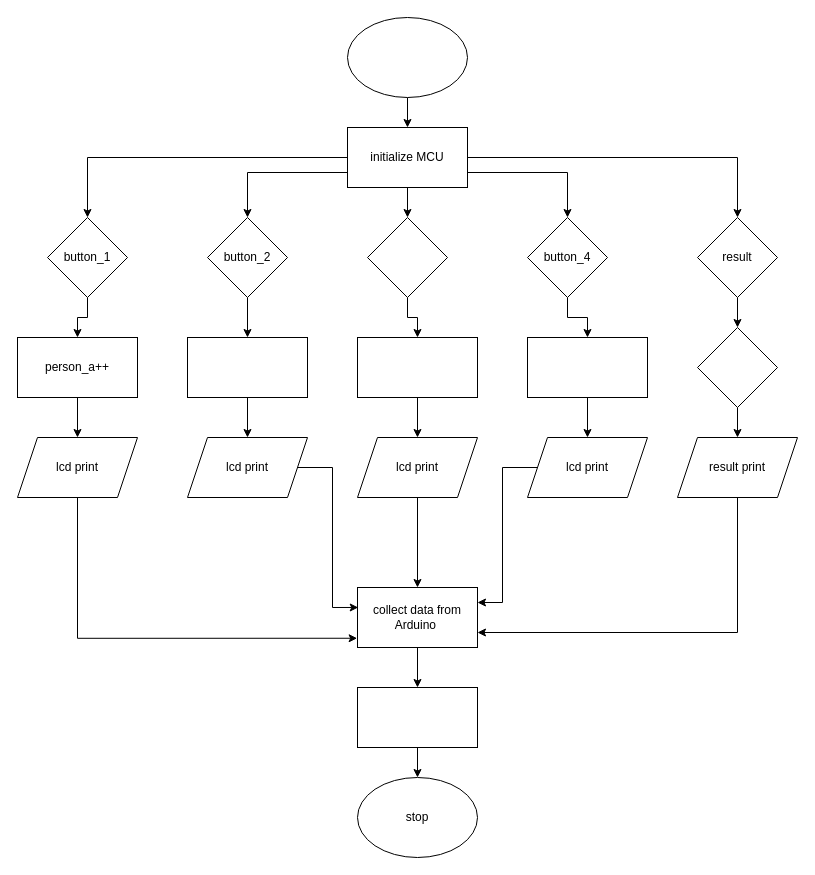
This 815x875 diagram has some shape labels left out. Here are the shapes that lost their labels. From the top down, the centre of each, then its label:
At [407,57]: "Start".
At [407,257]: "button_3".
At [247,367]: "person_b++".
At [417,367]: "person_c++".
At [587,367]: "person_d++".
At [737,367]: "compare data".
At [417,717]: "push data to cloud".
